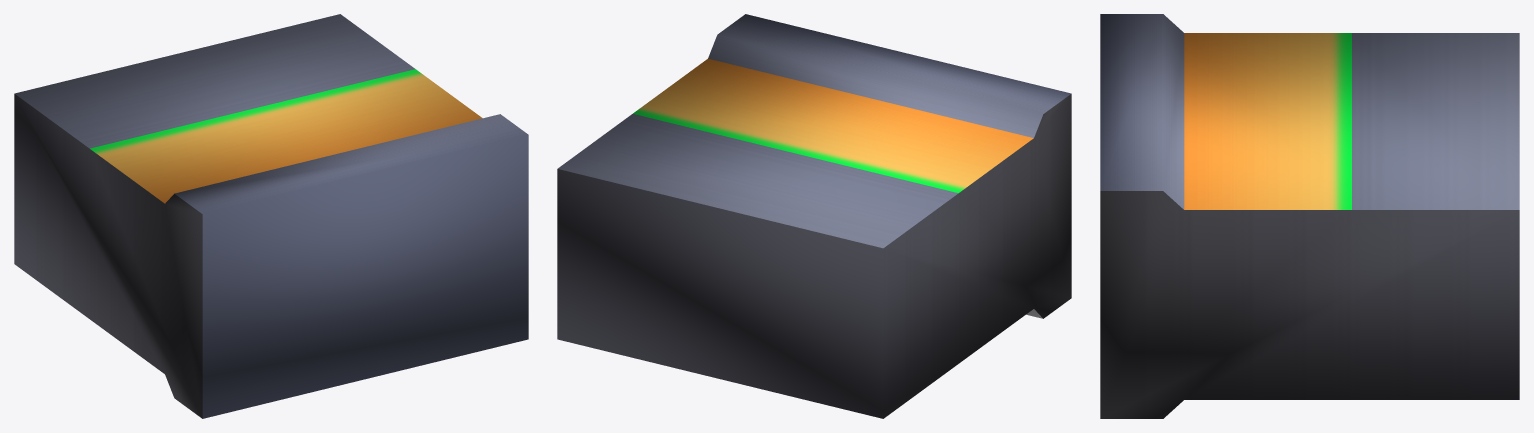
The model's file is wall.018.obj.
The picture shows the model from 3 angles, left to right: view 1: azimuth 30°, elevation 25°; view 2: azimuth 150°, elevation 25°; view 3: azimuth 270°, elevation 25°; orthographic projection. The views are drawn at different scales.
Visible parts, largest first — view 1: wall.014; view 2: wall.014; view 3: wall.014.
Boxes of the visible parts, box(x1,y1,x2,y2) form: wall.014: box(14, 14, 528, 418); wall.014: box(557, 14, 1071, 418); wall.014: box(1100, 14, 1519, 418).
Size of the model in its own units: 1 by 0.6 by 1.
